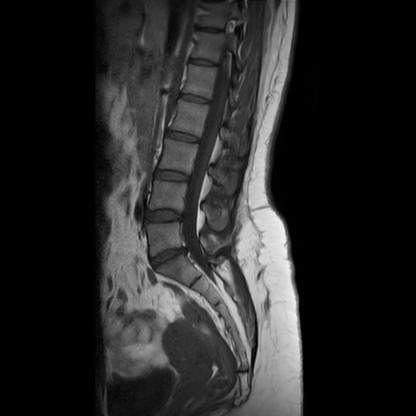Disc Bulgerotation: (142, 208, 183, 229)
Disc Protrusionrotation: (150, 249, 188, 265)
